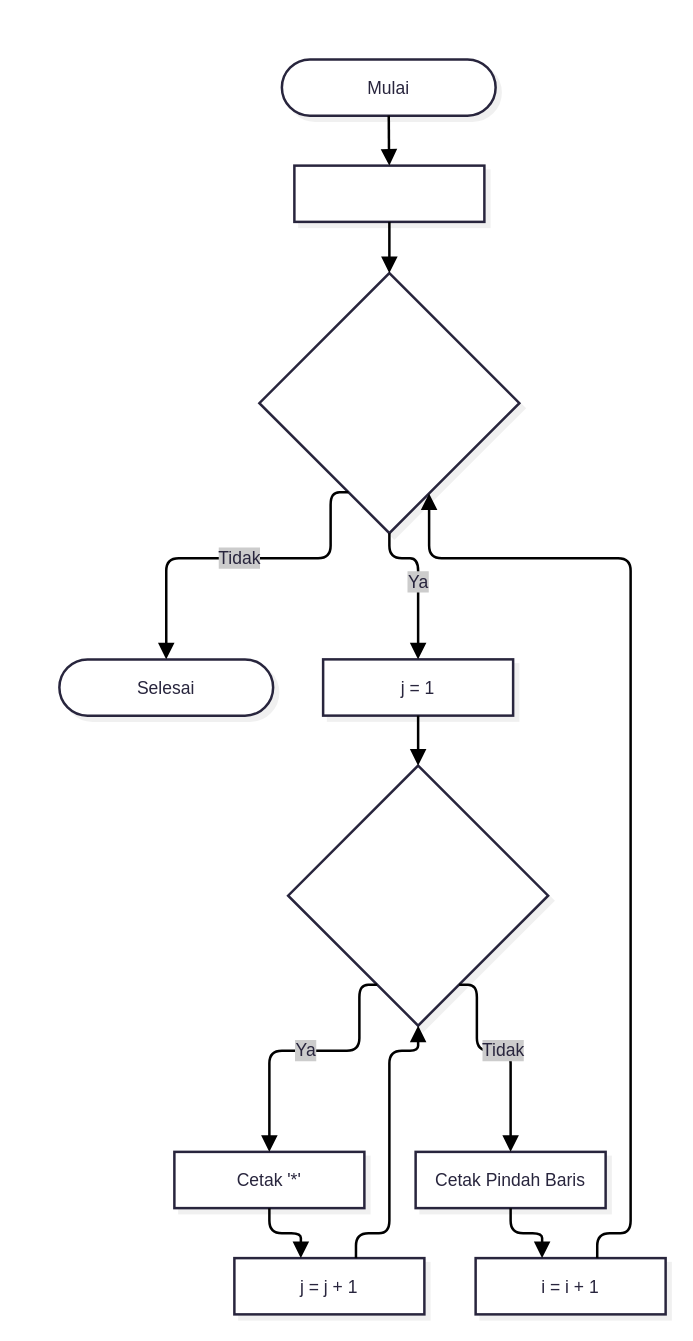
The diagram is 693 pixels wide and 1341 high, and some of its shapes have lost their labels. Here are the shapes that lost their labels. From the top down, the centre of each, then its label:
the point at 391,196: i = 1
the point at 391,405: i <= 10?
the point at 420,897: j <= i?
